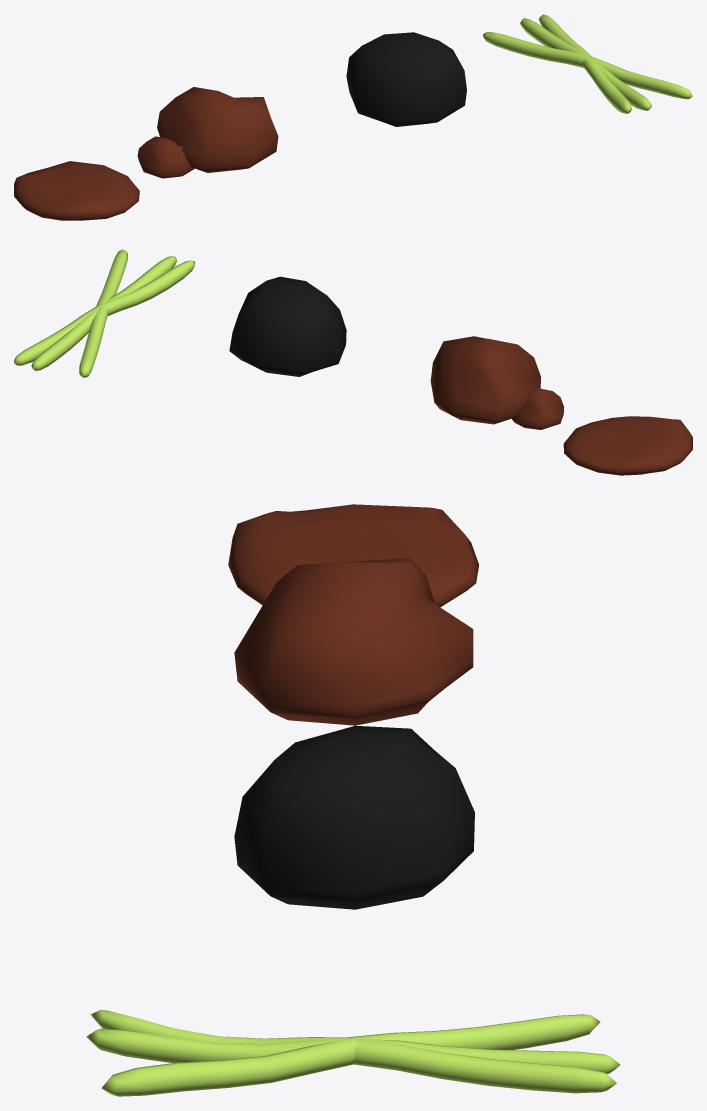
Rendered from ingredients.fbx.
The picture shows the model from 3 angles, top to bottom: view 1: azimuth 30°, elevation 25°; view 2: azimuth 150°, elevation 25°; view 3: azimuth 270°, elevation 25°; orthographic projection. The views are drawn at different scales.
Visible parts, largest first — view 1: clay, coal, Cube, herbs; view 2: clay, coal, Cube, herbs; view 3: coal, clay, herbs, Cube.
Boxes of the visible parts, x1,y1,x2,y2 form: clay: [137, 87, 278, 178]; coal: [346, 32, 466, 126]; Cube: [14, 161, 139, 220]; herbs: [482, 14, 692, 113]; clay: [430, 336, 563, 429]; coal: [229, 276, 346, 376]; Cube: [563, 416, 692, 475]; herbs: [14, 249, 194, 377]; coal: [234, 725, 474, 909]; clay: [234, 558, 473, 725]; herbs: [86, 1009, 620, 1096]; Cube: [228, 504, 478, 607].
Bounding box in the file's own units: 238 × 31.33 × 90.46.
